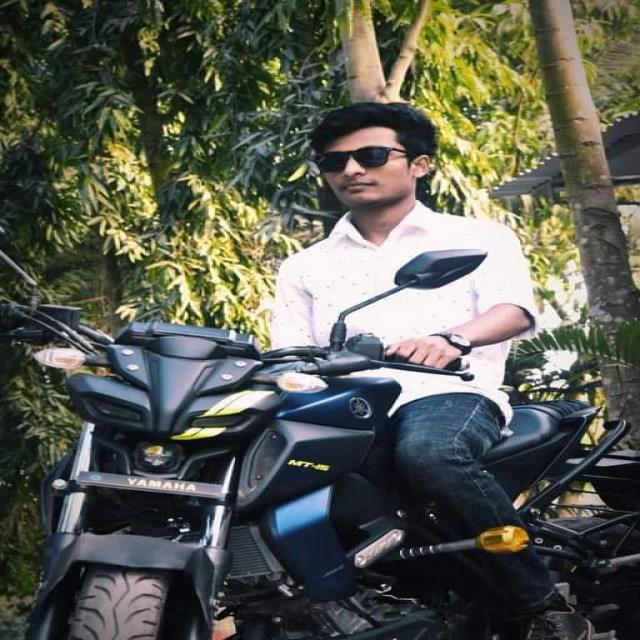Not Wearing Helmet: (168, 55, 508, 212)
